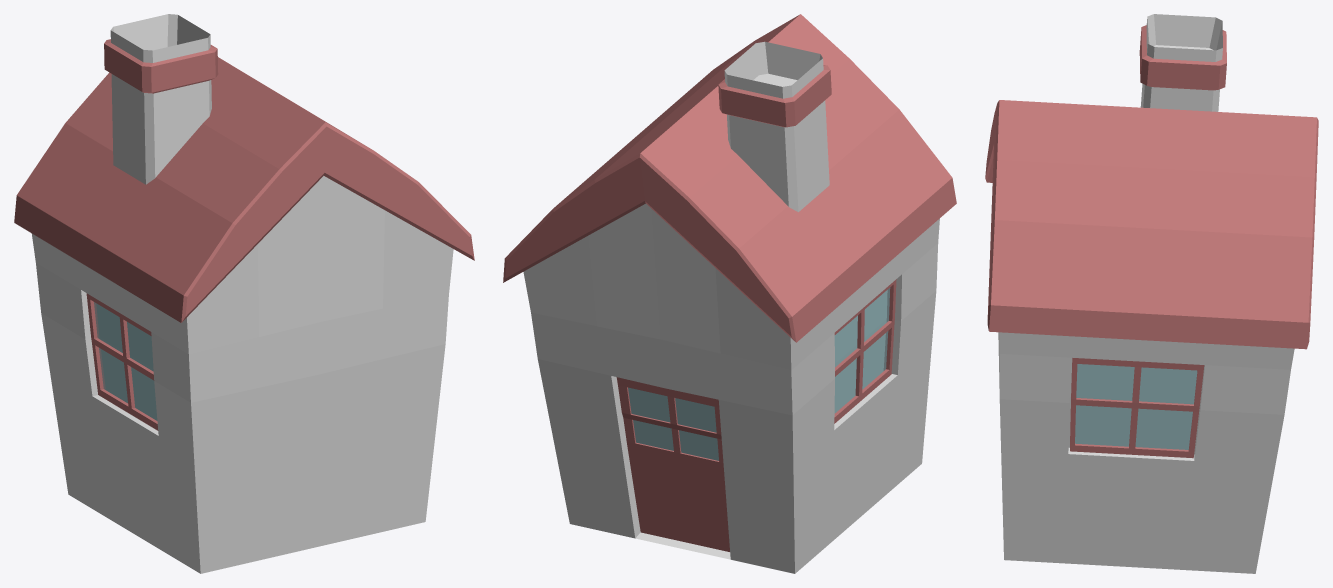
Rendered from house.fbx.
3 views of the same model, side by side, from view 1: azimuth 30°, elevation 25°; view 2: azimuth 150°, elevation 25°; view 3: azimuth 270°, elevation 25° (orthographic). The views are drawn at different scales.
Visible parts, largest first — view 1: polySurface283; view 2: polySurface283; view 3: polySurface283.
Part boxes in pixels (x1,y1,x2,y2): polySurface283: [14, 14, 474, 573]; polySurface283: [503, 14, 956, 573]; polySurface283: [985, 14, 1318, 573].
Size of the model in its own units: 1.57 by 2.43 by 1.58.
